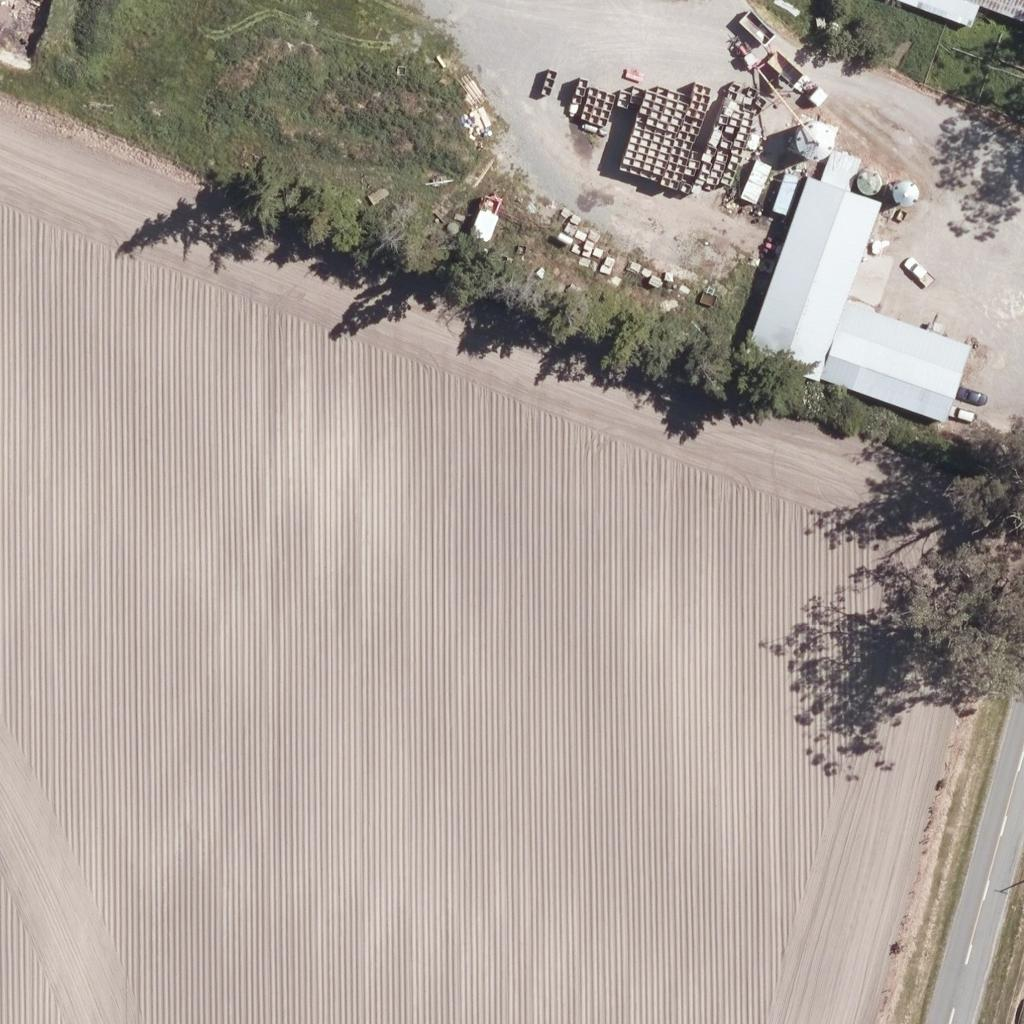car: (899, 252, 933, 286), (955, 378, 989, 412), (943, 396, 977, 430)
